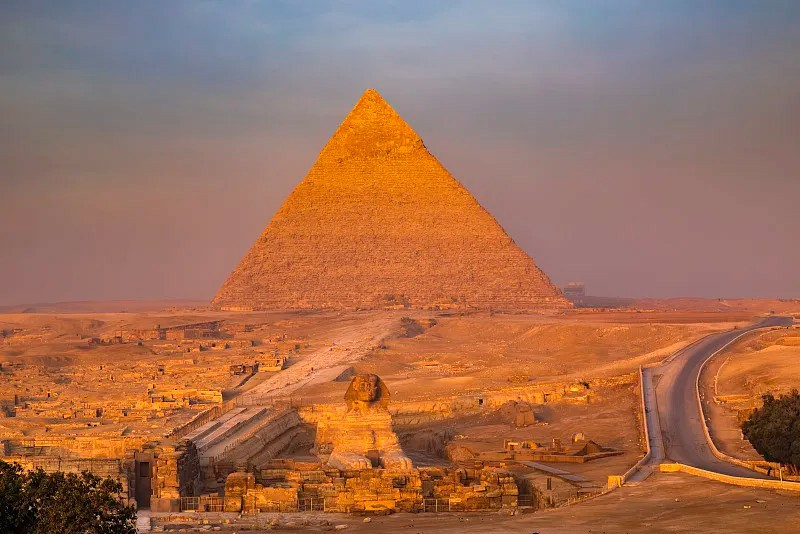Pyramid: (208, 88, 578, 313)
